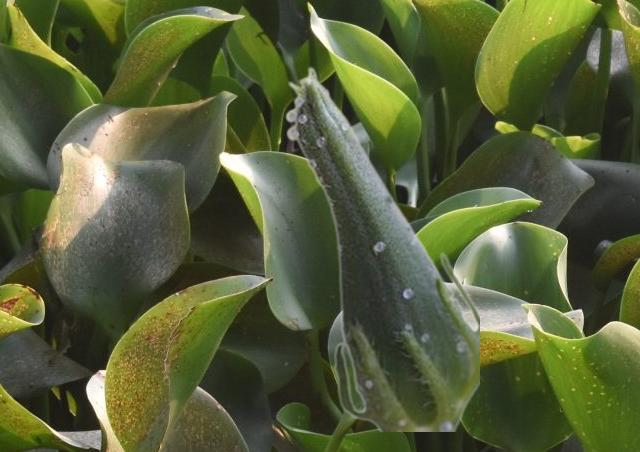okra: (284, 66, 478, 430)
